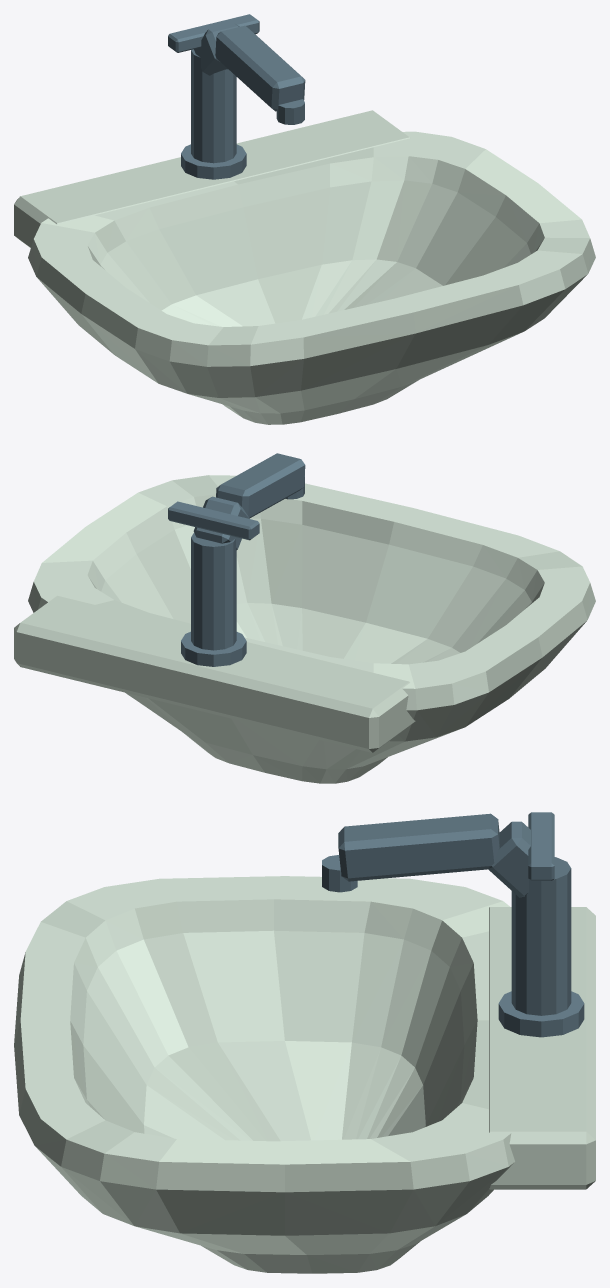
Rendered from EB_SinkBasin.fbx.
3 renders of one model, top to bottom at view 1: azimuth 30°, elevation 25°; view 2: azimuth 150°, elevation 25°; view 3: azimuth 270°, elevation 25°, orthographic. The views are drawn at different scales.
Parts seen in each view (by area): view 1: EB_SinkBasin; view 2: EB_SinkBasin; view 3: EB_SinkBasin.
Part boxes in pixels (<box>): EB_SinkBasin: <box>14,14,595,424</box>; EB_SinkBasin: <box>14,453,595,783</box>; EB_SinkBasin: <box>14,812,595,1273</box>.
Bounding box in the file's own units: 0.632 × 0.4043 × 0.5285.
